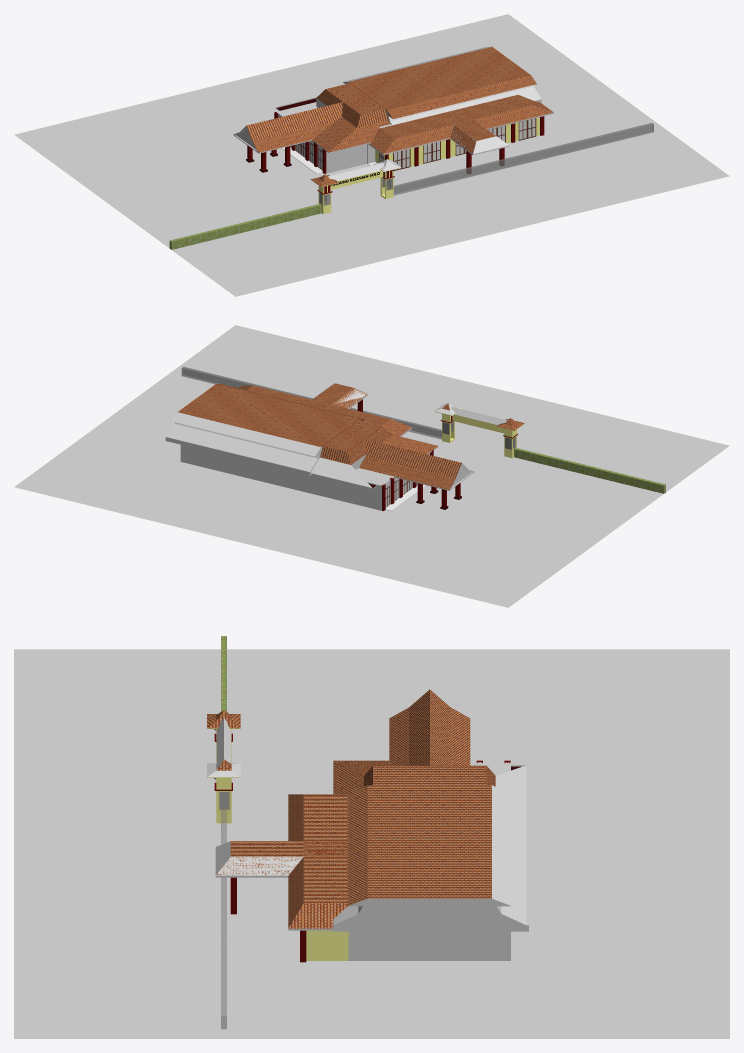
File: gedung-kesenian-solo.fbx
3 views of the same model, one above another, from view 1: azimuth 30°, elevation 25°; view 2: azimuth 150°, elevation 25°; view 3: azimuth 270°, elevation 25° (orthographic). The views are drawn at different scales.
Visible parts, largest first — view 1: Group23, Group7, Group9, Group3, Group4, Group6, Group5, Group8, Group22; view 2: Group23, Group7, Group5, Group9, Group6, Group3, Group8, Group4; view 3: Group23, Group7, Group5, Group3, Group4, Group6, Group9, Group8.
Part boxes in pixels (box(x1,y1,x2,y2)): Group23: box(14, 14, 729, 296); Group7: box(233, 46, 541, 153); Group9: box(169, 123, 653, 249); Group3: box(368, 109, 509, 155); Group4: box(443, 94, 553, 154); Group6: box(343, 46, 536, 118); Group5: box(276, 103, 539, 173); Group8: box(311, 159, 400, 186); Group22: box(331, 146, 360, 171); Group23: box(14, 325, 729, 607); Group7: box(165, 384, 474, 490); Group5: box(180, 445, 429, 510); Group9: box(181, 366, 665, 493); Group6: box(171, 384, 365, 456); Group3: box(306, 383, 412, 436); Group8: box(434, 403, 524, 430); Group4: box(238, 385, 366, 408); Group23: box(14, 649, 729, 1038); Group7: box(333, 689, 528, 931); Group5: box(306, 762, 510, 960); Group3: box(215, 794, 347, 877); Group4: box(216, 841, 347, 930); Group6: box(347, 785, 511, 906); Group9: box(207, 636, 240, 1029); Group8: box(207, 710, 240, 777).
Size of the model in its own units: 66965 by 5578 by 51989.
